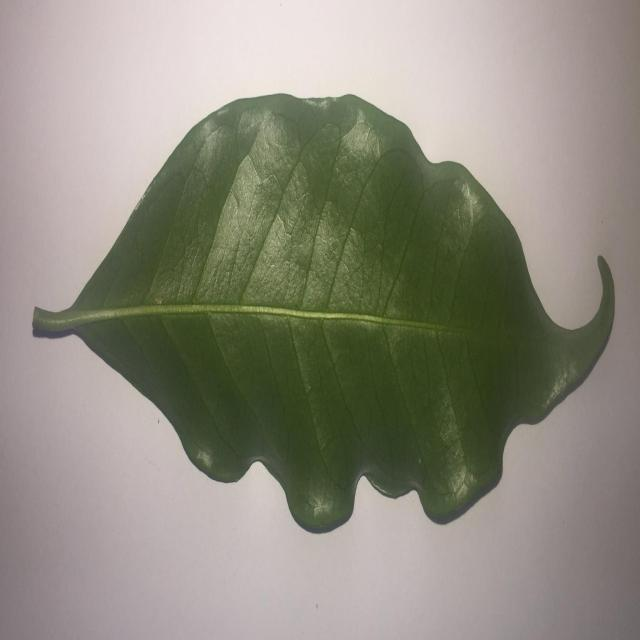nodisease: (32, 94, 614, 533)
